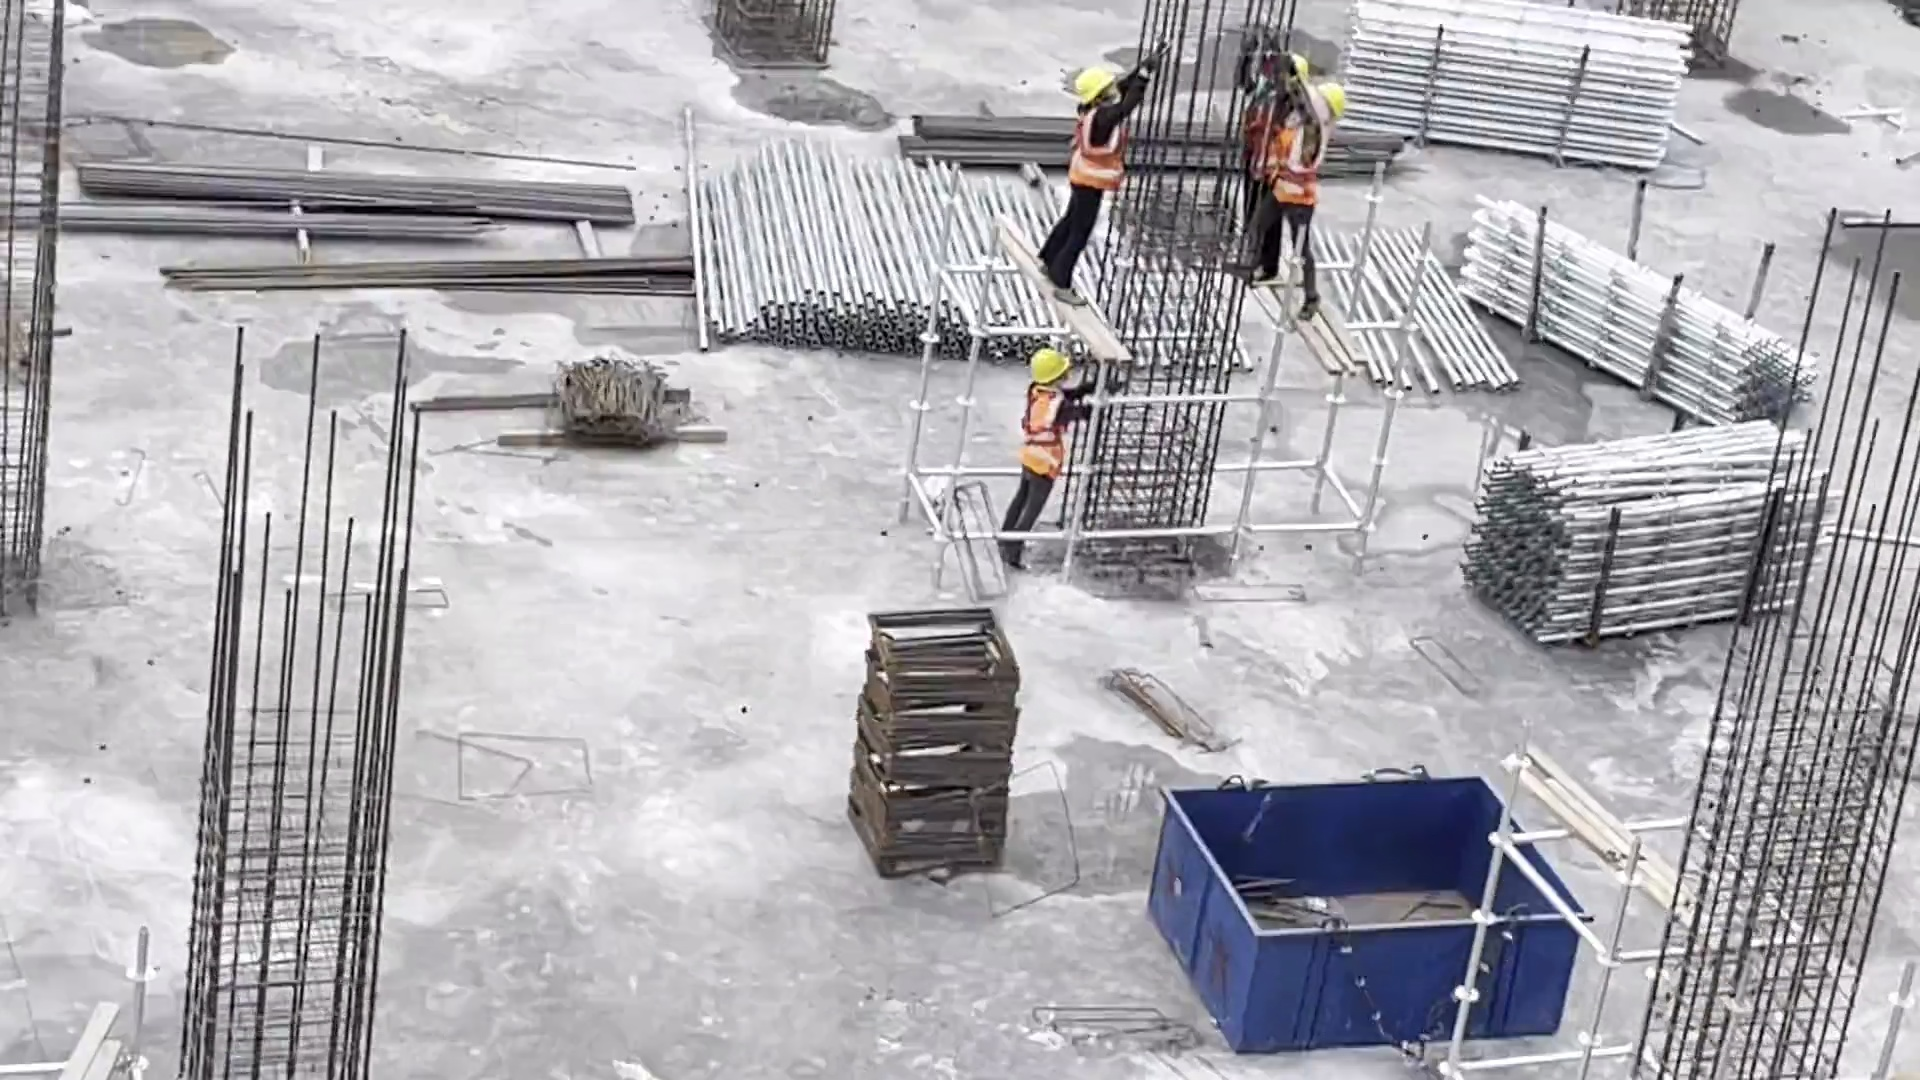helmet: (1322, 78, 1358, 126), (1029, 342, 1075, 379), (1070, 67, 1115, 102)
hopper: (1146, 778, 1591, 1057)
person: (1045, 64, 1136, 309), (1271, 78, 1352, 309), (1004, 335, 1069, 574), (1234, 41, 1285, 205)
rebar: (73, 157, 649, 235), (148, 241, 712, 316), (880, 117, 1419, 178), (33, 198, 474, 257)
scaffold: (1455, 164, 1828, 449), (681, 120, 1074, 343), (1451, 430, 1848, 648), (1340, 1, 1699, 187)
vest: (1064, 101, 1126, 195), (1018, 383, 1067, 482), (1272, 120, 1323, 201)
